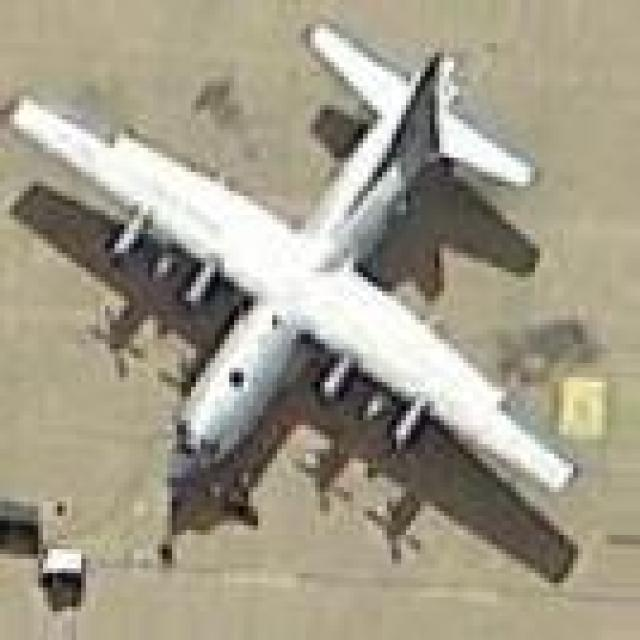C-130_TopDown: (0, 18, 589, 594)
